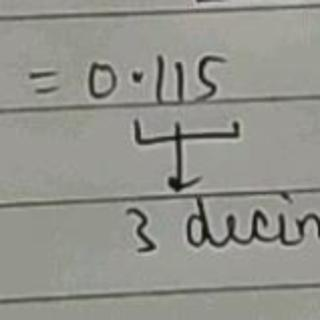.: (127, 64, 148, 86)
0: (88, 60, 118, 102)
1: (154, 51, 165, 103), (175, 57, 187, 103)
3: (125, 205, 157, 261)
5: (195, 50, 228, 106)
